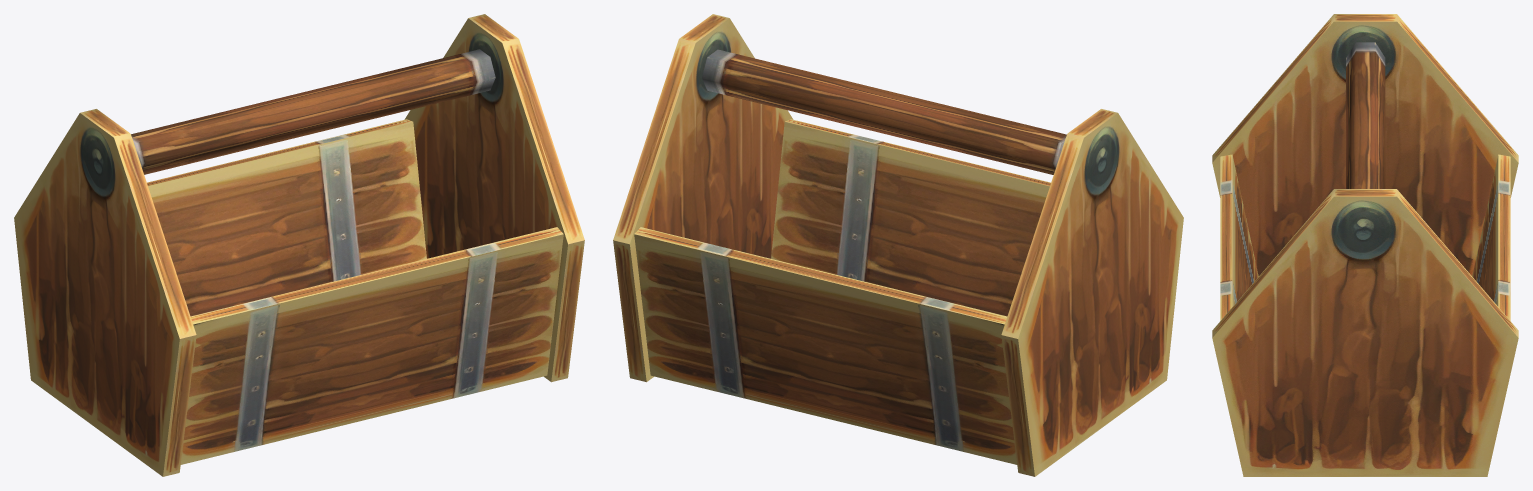
File: toolbox01.obj
3 views of the same model, side by side, from view 1: azimuth 30°, elevation 25°; view 2: azimuth 150°, elevation 25°; view 3: azimuth 270°, elevation 25° (orthographic). The views are drawn at different scales.
Visible parts, largest first — view 1: toolbox01; view 2: toolbox01; view 3: toolbox01.
Part boxes in pixels (box(x1,y1,x2,y2)): toolbox01: box(14, 14, 584, 476); toolbox01: box(613, 14, 1183, 476); toolbox01: box(1212, 14, 1518, 476).
Bounding box in the file's own units: 1.04 × 0.7428 × 0.7358.
1 material, 1 textured.
